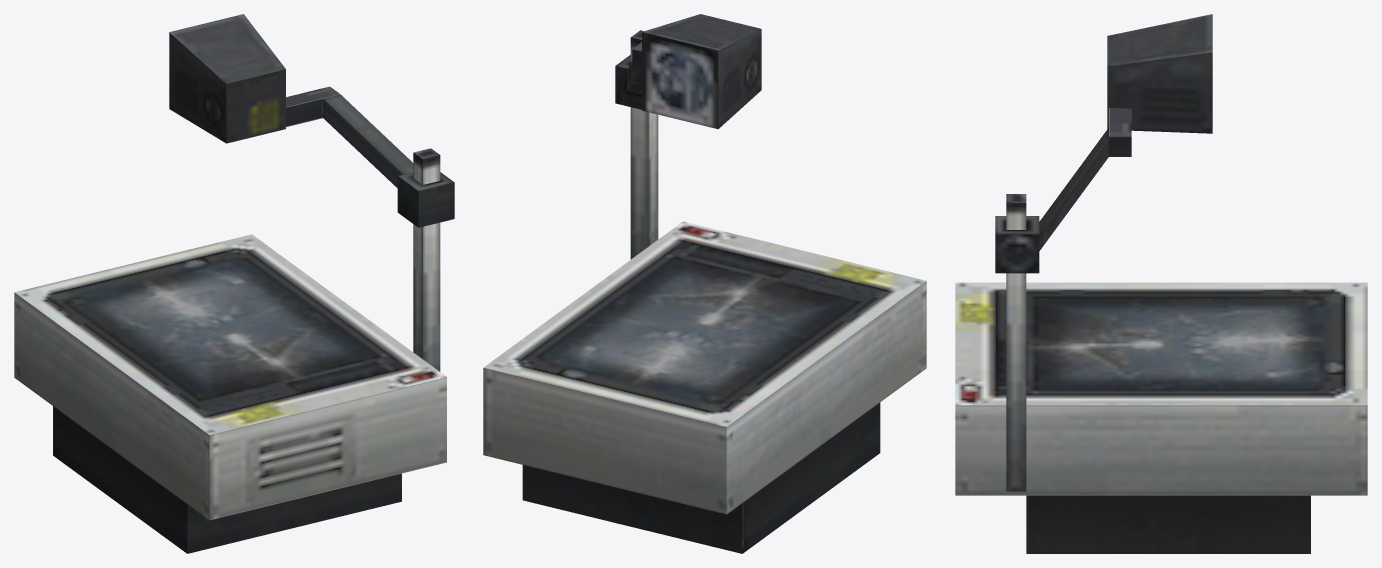
File: overhead_projector.fbx
The picture shows the model from 3 angles, left to right: view 1: azimuth 30°, elevation 25°; view 2: azimuth 150°, elevation 25°; view 3: azimuth 270°, elevation 25°; orthographic projection. The views are drawn at different scales.
Parts seen in each view (by area): view 1: mesh_0; view 2: mesh_0; view 3: mesh_0.
Boxes of the visible parts, x1,y1,x2,y2 form: mesh_0: [14, 14, 454, 553]; mesh_0: [483, 14, 926, 553]; mesh_0: [955, 14, 1367, 553].
Size of the model in its own units: 25.65 by 40.84 by 32.81.
1 material, 1 textured.
